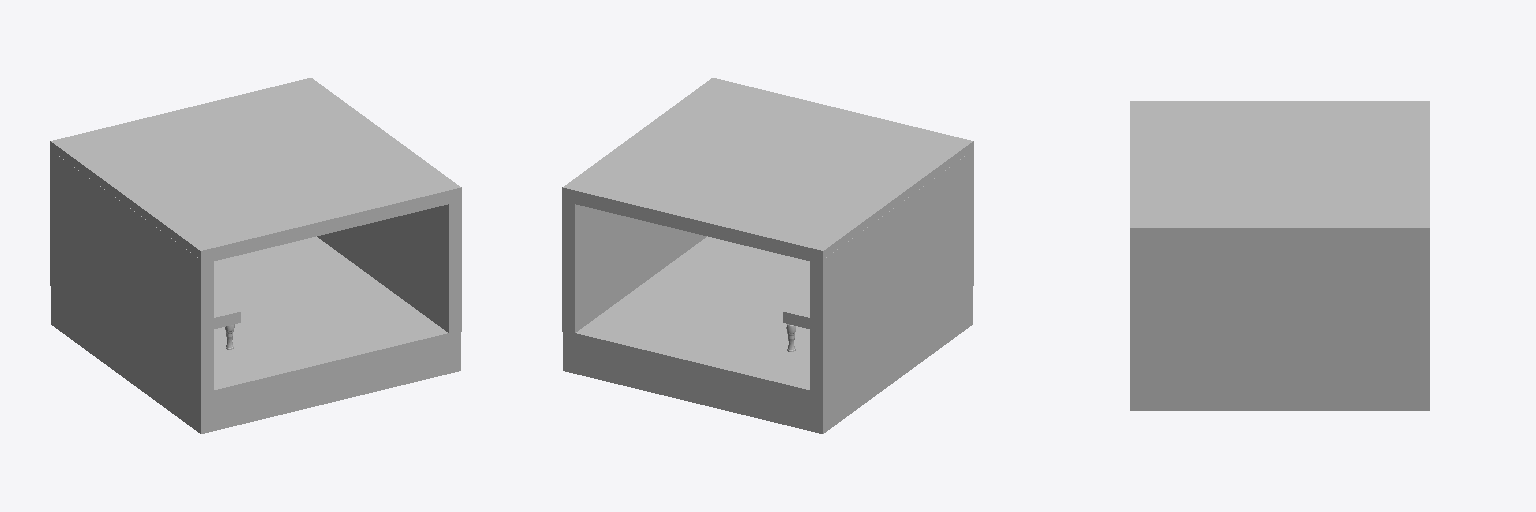
File: office.obj
3 views of the same model, side by side, from view 1: azimuth 30°, elevation 25°; view 2: azimuth 150°, elevation 25°; view 3: azimuth 270°, elevation 25° (orthographic).
Visible parts, largest first — view 1: Cube.004, Cube, Cube.002, Cube.001, Cube.003; view 2: Cube.004, Cube, Cube.002, Cube.001, Cube.003; view 3: Cube.001, Cube.004, Cube.
Boxes of the visible parts, x1=… form: Cube.004: x1=50, y1=78, x2=461, y2=264; Cube: x1=51, y1=236, x2=460, y2=433; Cube.002: x1=50, y1=150, x2=213, y2=395; Cube.001: x1=317, y1=197, x2=461, y2=334; Cube.003: x1=214, y1=292, x2=240, y2=328; Cube.004: x1=562, y1=78, x2=973, y2=264; Cube: x1=563, y1=236, x2=972, y2=433; Cube.002: x1=810, y1=150, x2=973, y2=395; Cube.001: x1=562, y1=196, x2=706, y2=333; Cube.003: x1=783, y1=292, x2=809, y2=328; Cube.001: x1=1130, y1=237, x2=1429, y2=372; Cube.004: x1=1130, y1=101, x2=1429, y2=236; Cube: x1=1130, y1=373, x2=1429, y2=410.
Bounding box in the file's own units: 10.03 × 6.73 × 10.